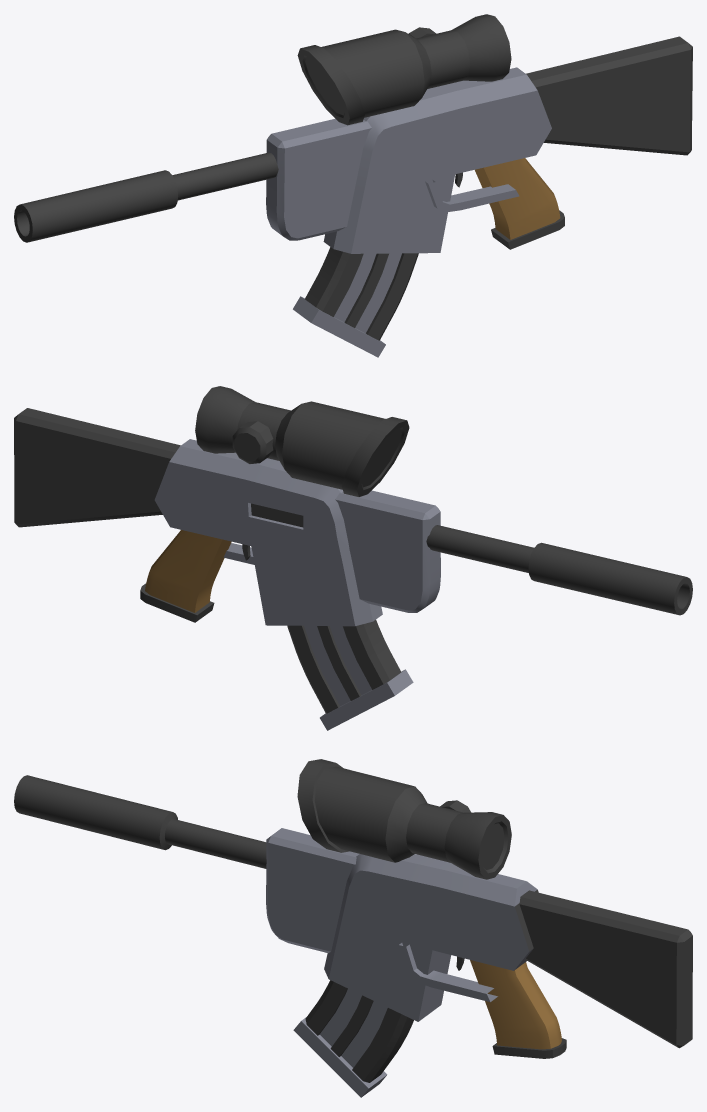
The model's file is Sniper_2.fbx.
3 renders of one model, top to bottom at view 1: azimuth 30°, elevation 25°; view 2: azimuth 150°, elevation 25°; view 3: azimuth 330°, elevation 25°, orthographic.
Visible parts, largest first — view 1: Sniper_2; view 2: Sniper_2; view 3: Sniper_2.
Part boxes in pixels (bbox=[...]): Sniper_2: bbox=[14, 14, 692, 357]; Sniper_2: bbox=[14, 386, 692, 730]; Sniper_2: bbox=[14, 759, 692, 1097].
Size of the model in its own units: 174 by 78.52 by 19.4.
